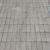zebra: (1, 8, 50, 45)
